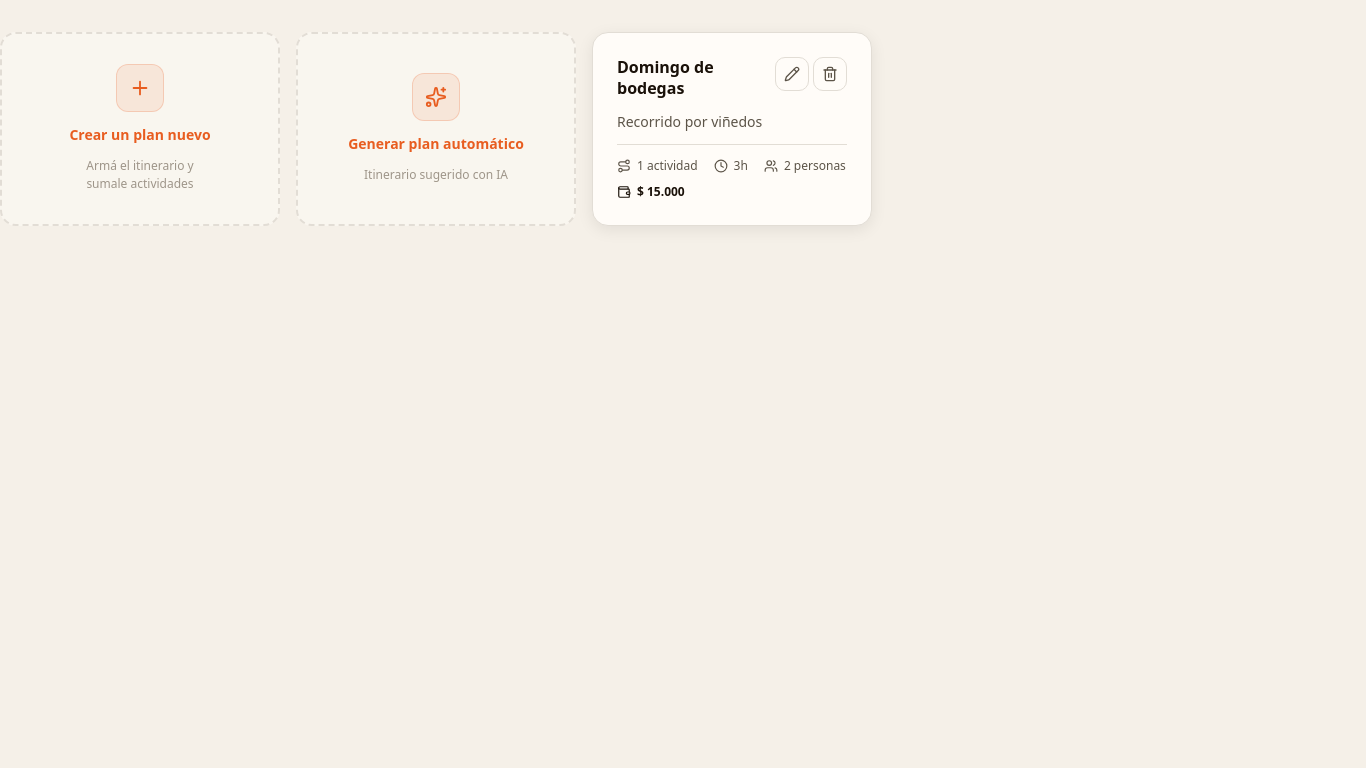
Scenario: MyPlansPanel (CU29) › deletes a plan and removes it from the list view (CU26)
The image size is (1366, 768).
Click the button named "Eliminar Domingo de bodegas": click(830, 74) x1=813 y1=57 x2=847 y2=91
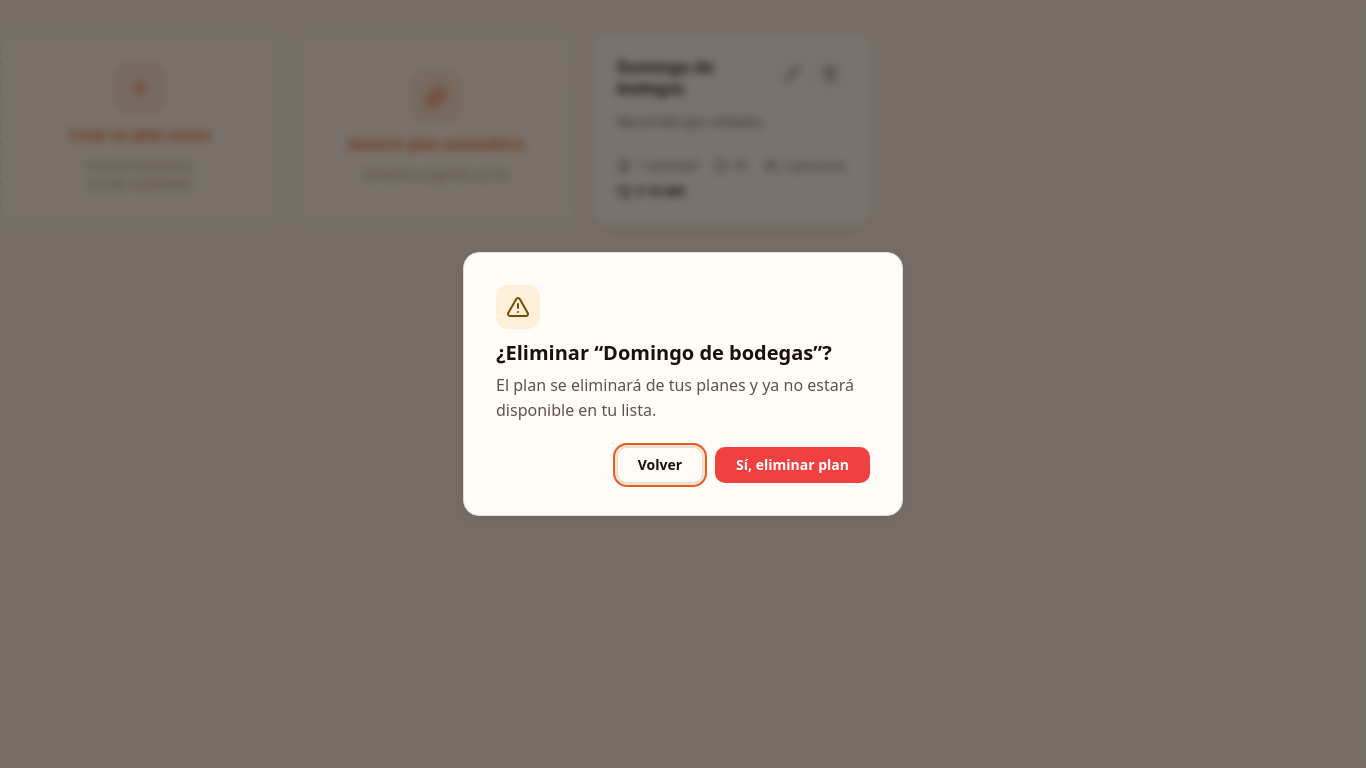
Click the button "Sí, eliminar plan": click(793, 465) x1=715 y1=447 x2=870 y2=483
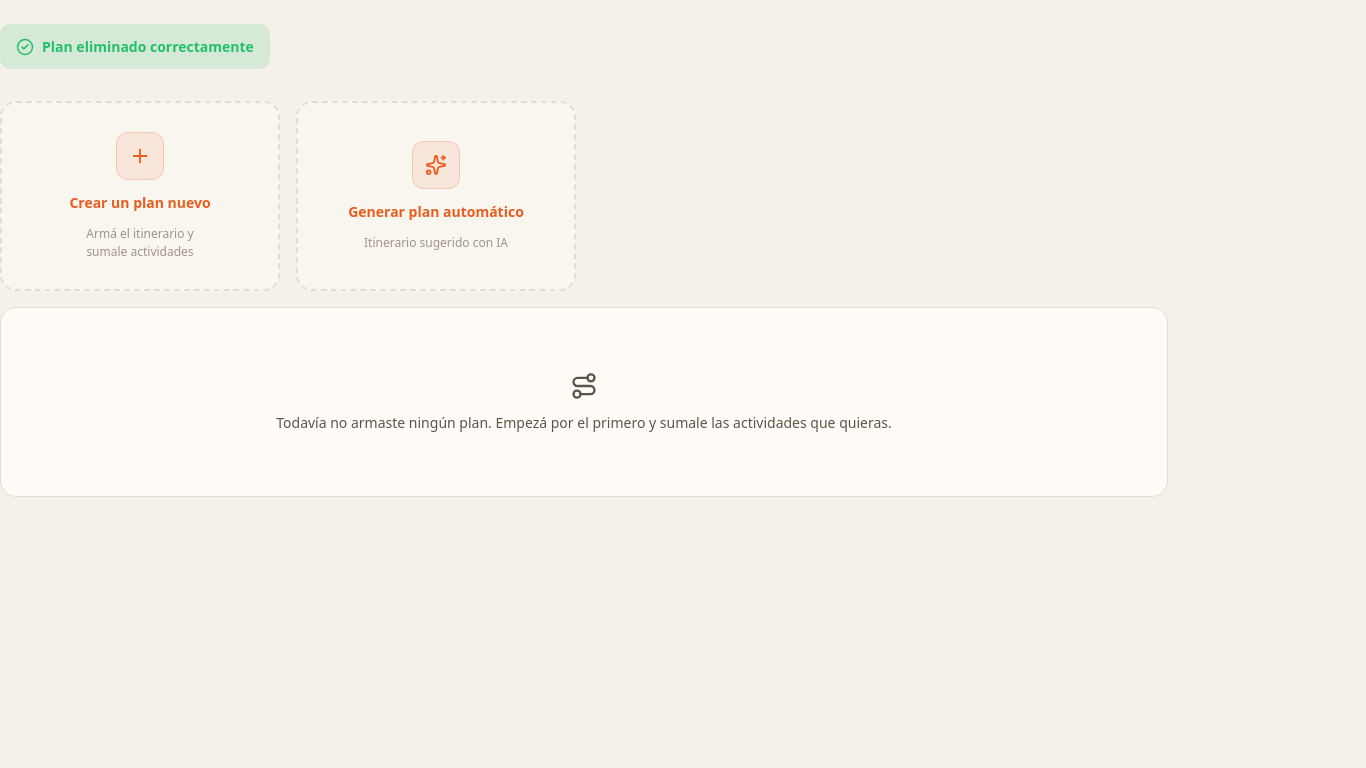
Expected: the link "Domingo de bodegas" is gone
